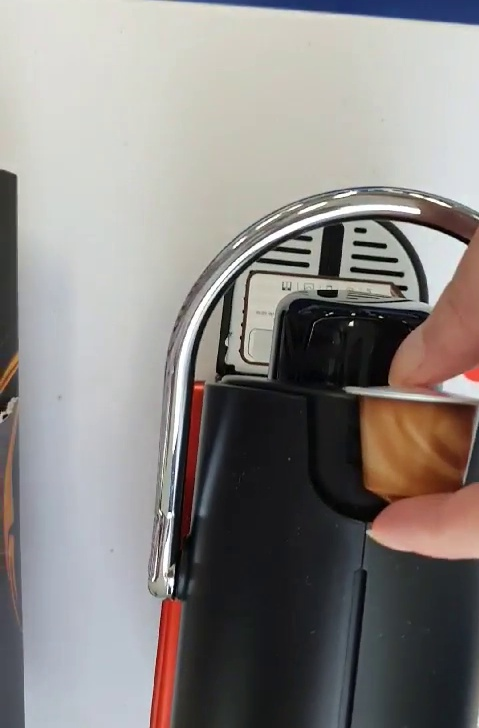capsule_12: (339, 383, 479, 510)
